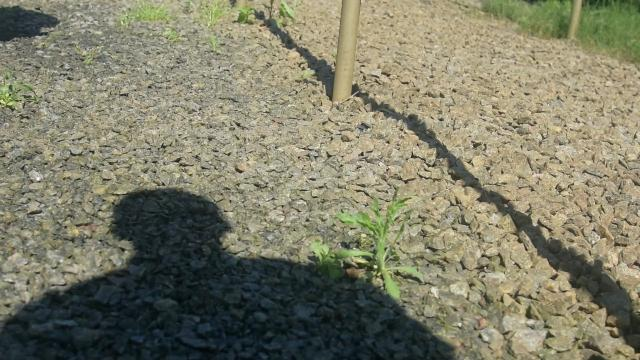MalezaMontesDelPlata: (308, 181, 429, 307), (0, 69, 42, 123), (231, 0, 297, 30), (114, 0, 183, 28), (195, 0, 230, 26)
